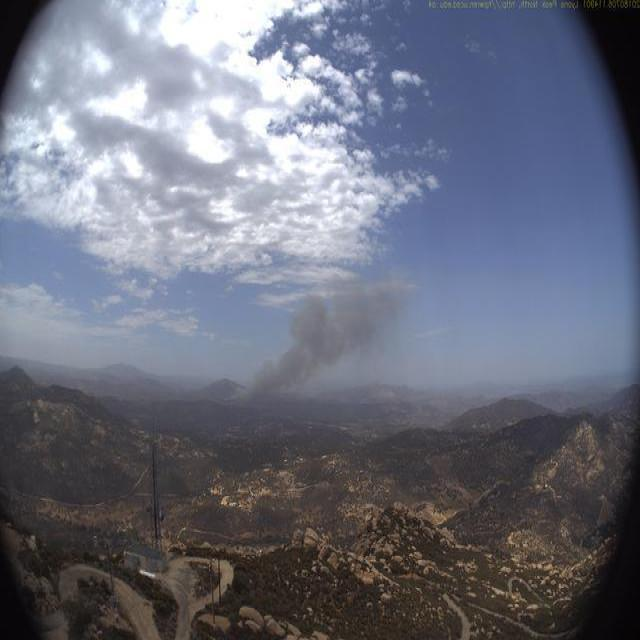Smoke: (225, 267, 419, 424)
